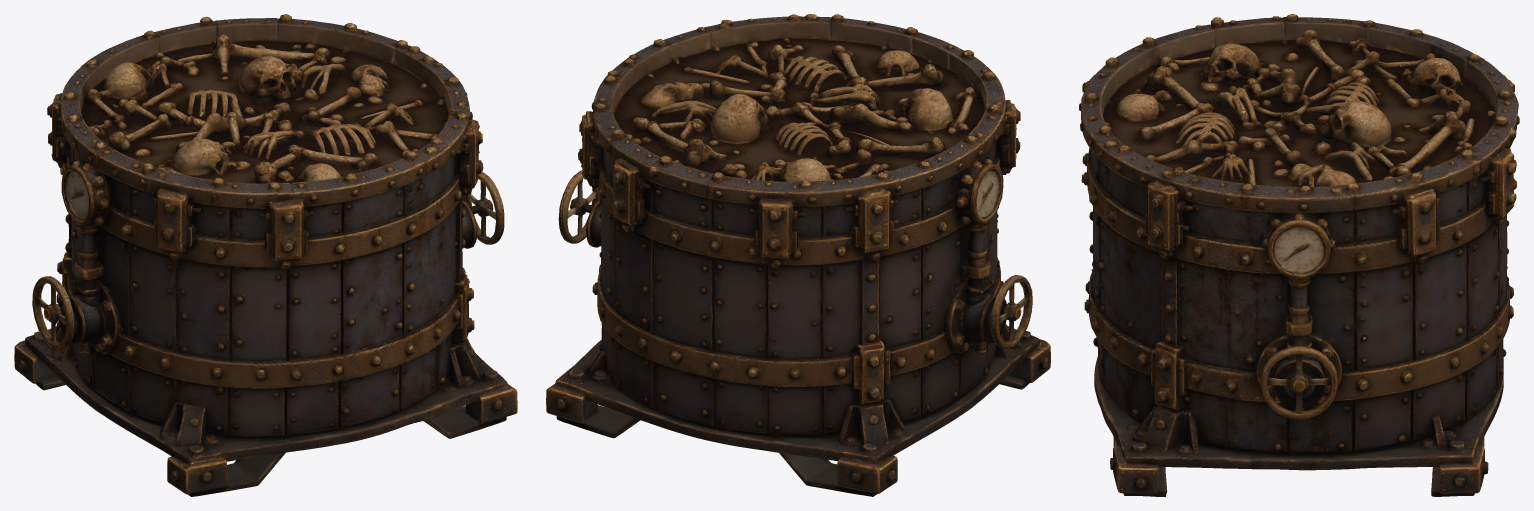
Rendered from raw_vat_bones.glb.
The picture shows the model from 3 angles, left to right: view 1: azimuth 30°, elevation 25°; view 2: azimuth 150°, elevation 25°; view 3: azimuth 270°, elevation 25°; orthographic projection. The views are drawn at different scales.
Parts seen in each view (by area): view 1: tripo_node_ae7cec45-c024-4c6c-9f56-32f34f489227; view 2: tripo_node_ae7cec45-c024-4c6c-9f56-32f34f489227; view 3: tripo_node_ae7cec45-c024-4c6c-9f56-32f34f489227.
Part boxes in pixels (x1=…): tripo_node_ae7cec45-c024-4c6c-9f56-32f34f489227: x1=14, y1=14, x2=517, y2=496; tripo_node_ae7cec45-c024-4c6c-9f56-32f34f489227: x1=546, y1=14, x2=1050, y2=496; tripo_node_ae7cec45-c024-4c6c-9f56-32f34f489227: x1=1079, y1=14, x2=1519, y2=496.
Bounding box in the file's own units: 1 × 0.6737 × 0.8183.
1 material, 1 textured.
